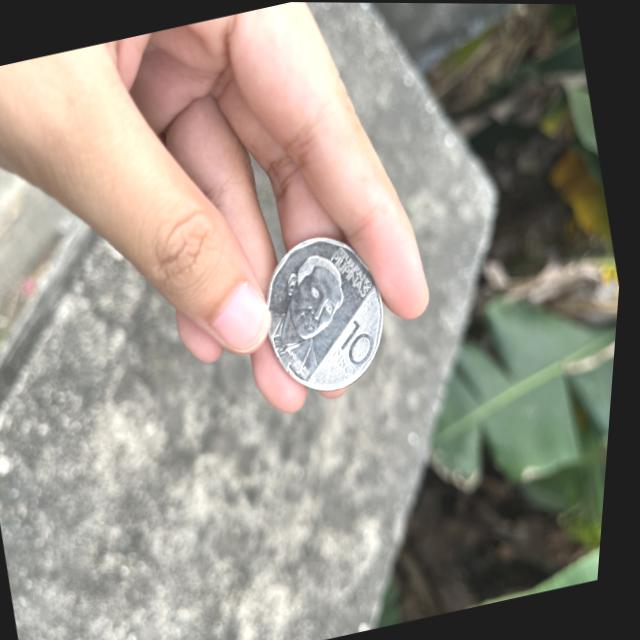10_New_Front: (327, 306, 392, 378)
